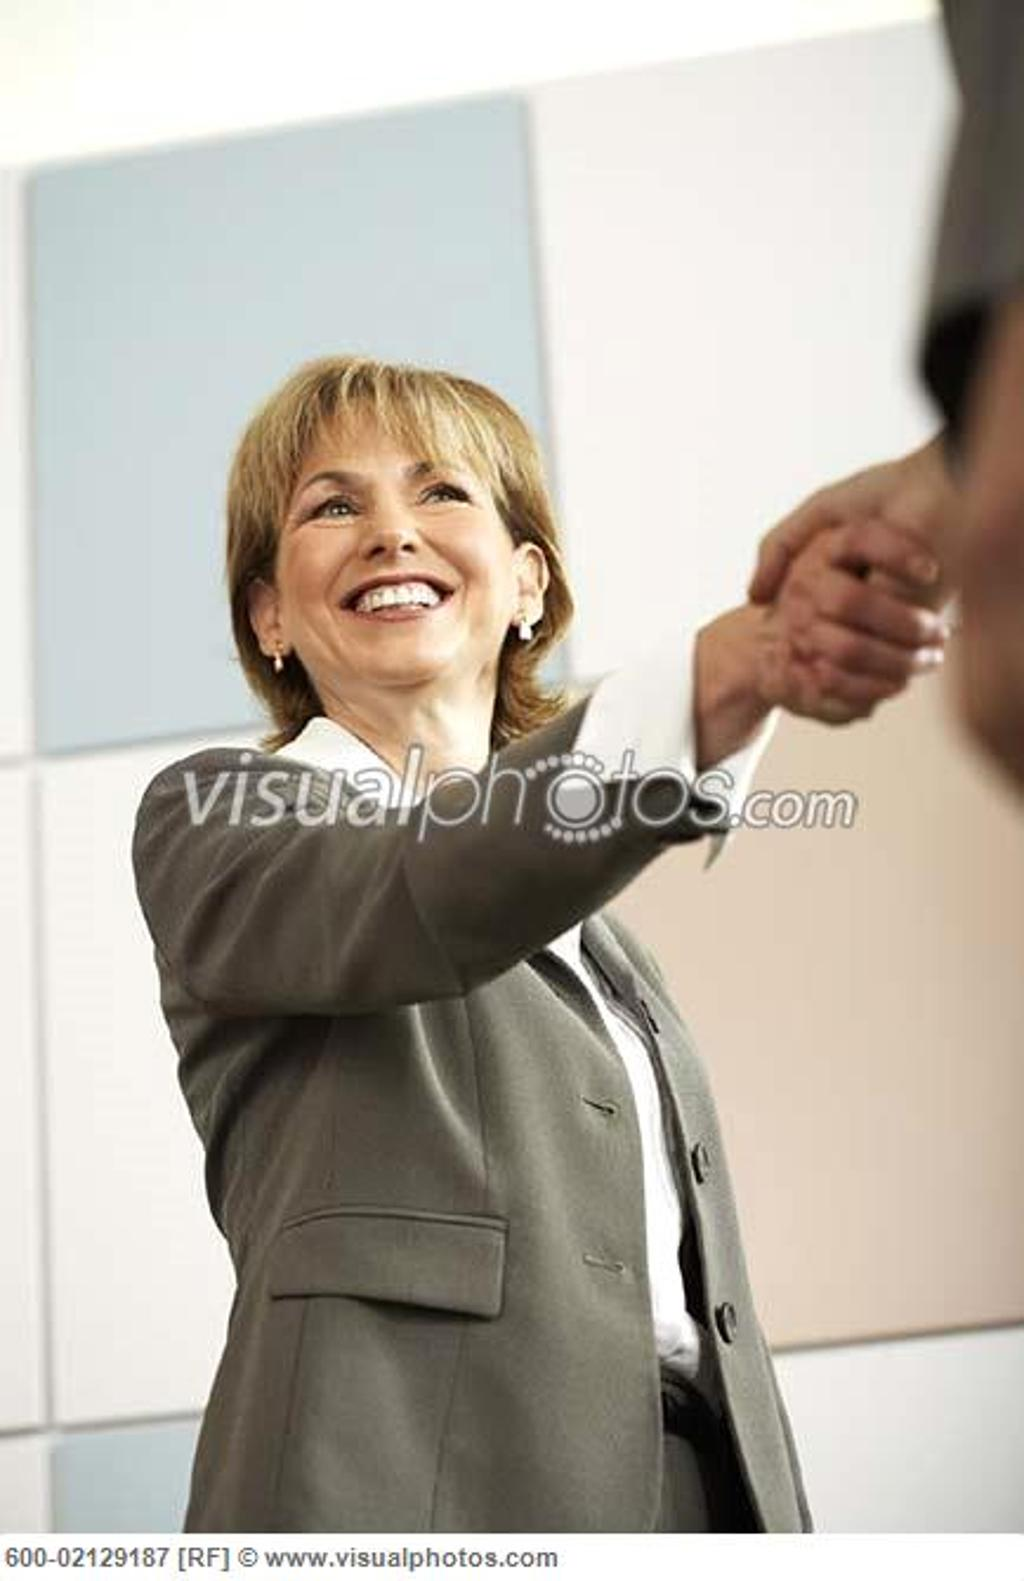face: (271, 426, 508, 682)
